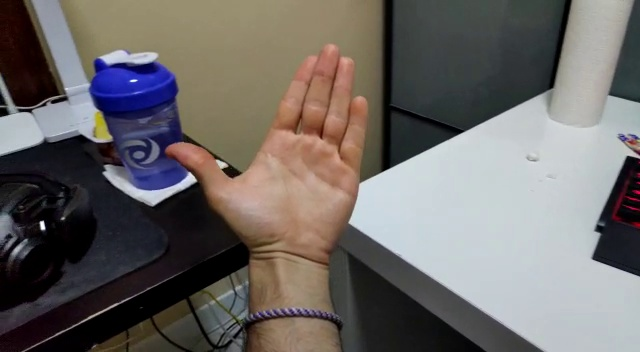Palm: (162, 41, 370, 273)
